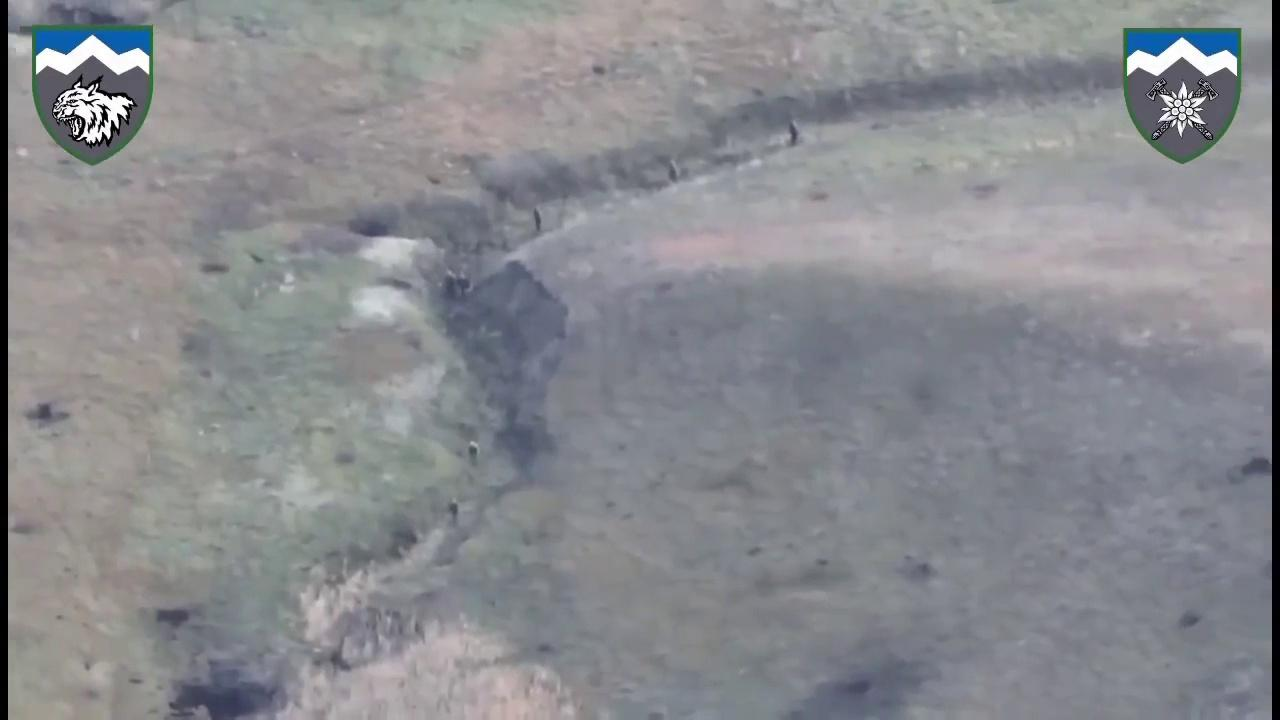person: (456, 270, 468, 302), (444, 272, 456, 300), (789, 121, 800, 146), (469, 440, 478, 469), (450, 498, 460, 523), (532, 207, 542, 230), (667, 160, 677, 182)
